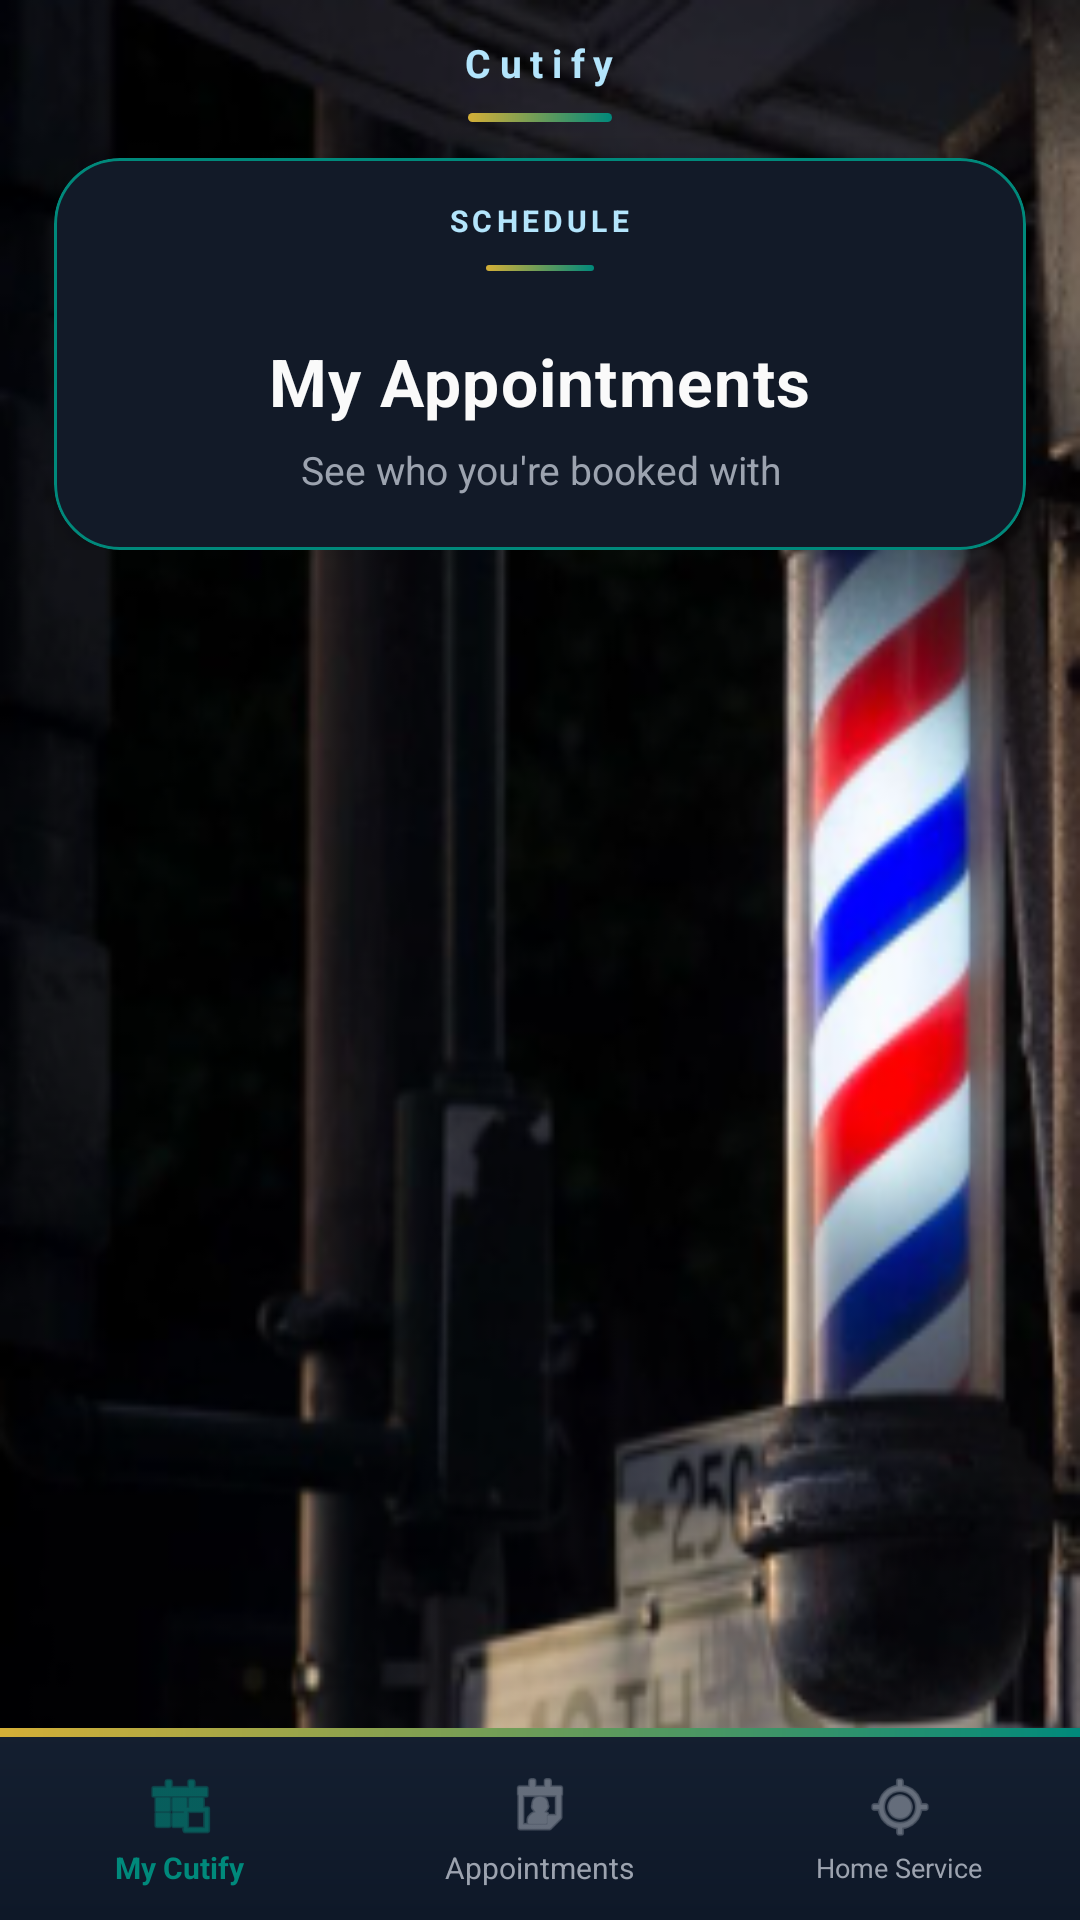

Screen size 1080w x 1920h. Icon name, then its box in pixels as bbox=(x1, y1, x2, y2):
mylocation: bbox=(871, 1778, 929, 1836)
